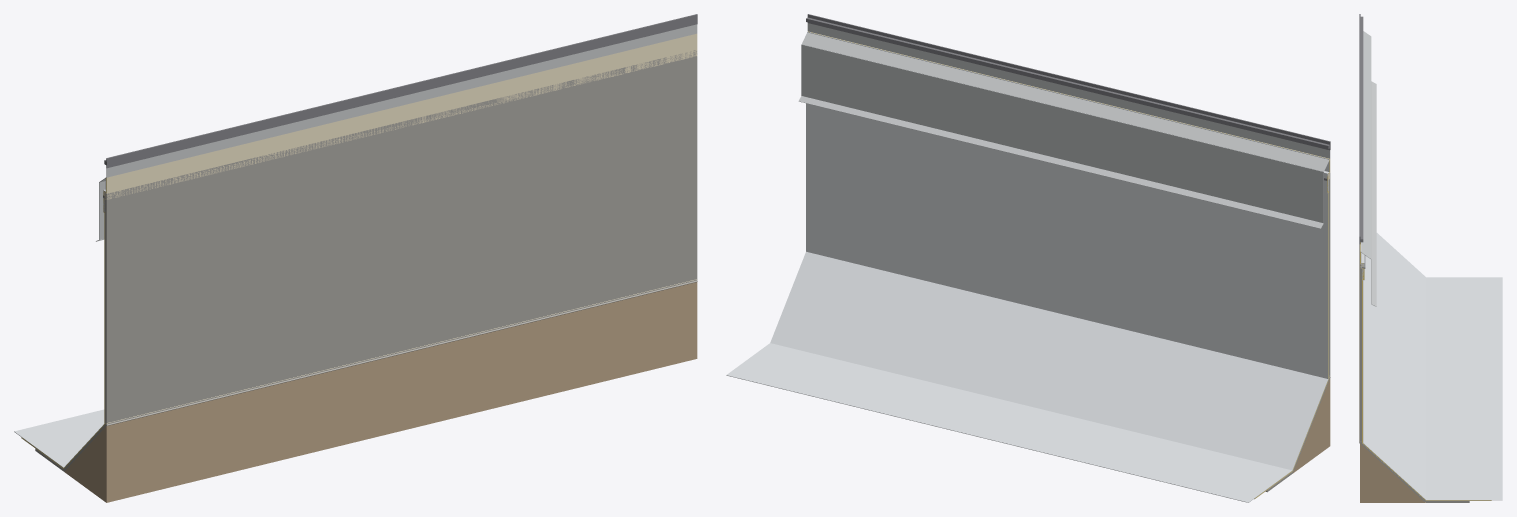
Rendered from reglet-counterflashing-W-11-TYP.glb.
The picture shows the model from 3 angles, left to right: view 1: azimuth 30°, elevation 25°; view 2: azimuth 150°, elevation 25°; view 3: azimuth 270°, elevation 25°; orthographic projection. The views are drawn at different scales.
Visible parts, largest first — view 1: existing__flashing_wall, existing__cant, primer__primer_wall, existing__reglet_groove, existing__reglet_lip, primer__primer_flashing_top, topcoat__topcoat_foot, existing__flashing_cant, topcoat__topcoat_foot_over; view 2: topcoat__topcoat_flashing, topcoat__topcoat_cant, existing__counterflashing_drop, topcoat__topcoat_foot_over, topcoat__topcoat_foot, existing__counterflashing_bend, existing__reglet_lip, existing__counterflashing_hem, primer__sealant_reglet, existing__reglet_groove, existing__cant, topcoat__topcoat_wall; view 3: topcoat__topcoat_cant, topcoat__topcoat_foot_over, topcoat__topcoat_foot, existing__cant, existing__counterflashing_bend, existing__counterflashing_hem, primer__sealant_reglet, existing__reglet_groove, existing__flashing_cant, existing__flashing_wall, existing__counterflashing_drop, primer__primer_cant.
Part boxes in pixels (x1,y1,x2,y2): existing__flashing_wall: [105, 50, 697, 424]; existing__cant: [64, 282, 697, 502]; primer__primer_wall: [106, 33, 697, 193]; existing__reglet_groove: [106, 14, 697, 168]; existing__reglet_lip: [106, 24, 697, 177]; primer__primer_flashing_top: [104, 49, 697, 199]; topcoat__topcoat_foot: [14, 409, 104, 446]; existing__flashing_cant: [64, 280, 697, 471]; topcoat__topcoat_foot_over: [35, 431, 96, 467]; topcoat__topcoat_flashing: [806, 103, 1328, 378]; topcoat__topcoat_cant: [770, 251, 1329, 470]; existing__counterflashing_drop: [801, 44, 1323, 223]; topcoat__topcoat_foot_over: [744, 343, 1292, 489]; topcoat__topcoat_foot: [726, 362, 1266, 502]; existing__counterflashing_bend: [802, 31, 1329, 171]; existing__reglet_lip: [807, 23, 1330, 158]; existing__counterflashing_hem: [798, 96, 1323, 228]; primer__sealant_reglet: [806, 17, 1329, 149]; existing__reglet_groove: [807, 14, 1330, 150]; existing__cant: [1292, 379, 1330, 473]; topcoat__topcoat_wall: [807, 31, 1329, 171]; topcoat__topcoat_cant: [1362, 233, 1425, 499]; topcoat__topcoat_foot_over: [1426, 277, 1470, 500]; topcoat__topcoat_foot: [1470, 277, 1502, 500]; existing__cant: [1360, 443, 1425, 502]; existing__counterflashing_bend: [1360, 31, 1370, 258]; existing__counterflashing_hem: [1371, 81, 1376, 306]; primer__sealant_reglet: [1360, 16, 1363, 242]; existing__reglet_groove: [1359, 14, 1360, 244]; existing__flashing_cant: [1359, 244, 1426, 502]; existing__flashing_wall: [1360, 264, 1361, 443]; existing__counterflashing_drop: [1371, 36, 1371, 303]; primer__primer_cant: [1359, 244, 1419, 495].
Bounding box in the file's own units: 1.22 × 0.6794 × 0.3319.
